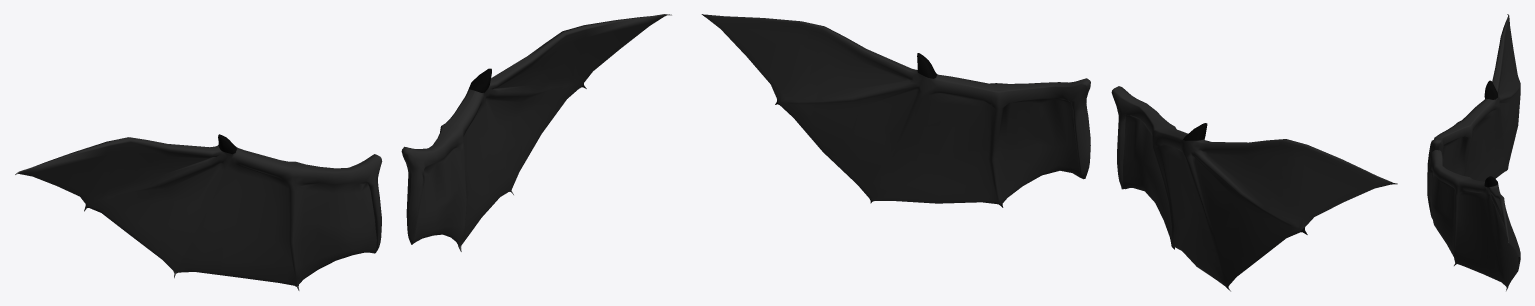
The model's file is demonwings-lite.glb.
The picture shows the model from 3 angles, left to right: view 1: azimuth 30°, elevation 25°; view 2: azimuth 150°, elevation 25°; view 3: azimuth 270°, elevation 25°; orthographic projection. The views are drawn at different scales.
Parts seen in each view (by area): view 1: demonwings_0; view 2: demonwings_0; view 3: demonwings_0.
Part boxes in pixels (x1,y1,x2,y2): demonwings_0: [15, 14, 671, 290]; demonwings_0: [701, 14, 1397, 291]; demonwings_0: [1427, 14, 1520, 290].
Bounding box in the file's own units: 2 × 0.4729 × 0.3403.
Materials: 1 (1 with a texture image).
